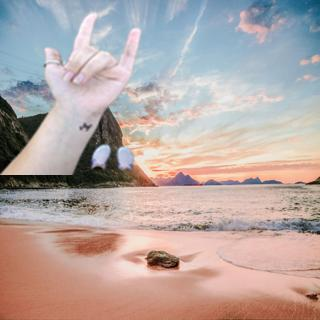ILY: (41, 10, 145, 119)
